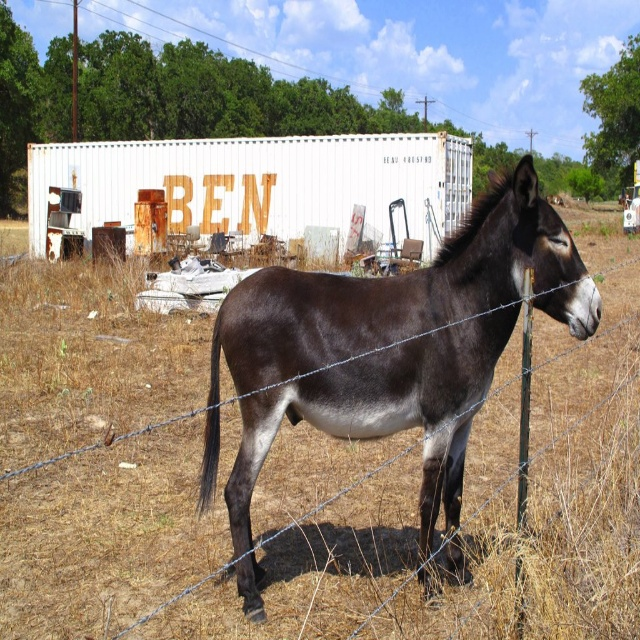Mule: (192, 154, 602, 625)
